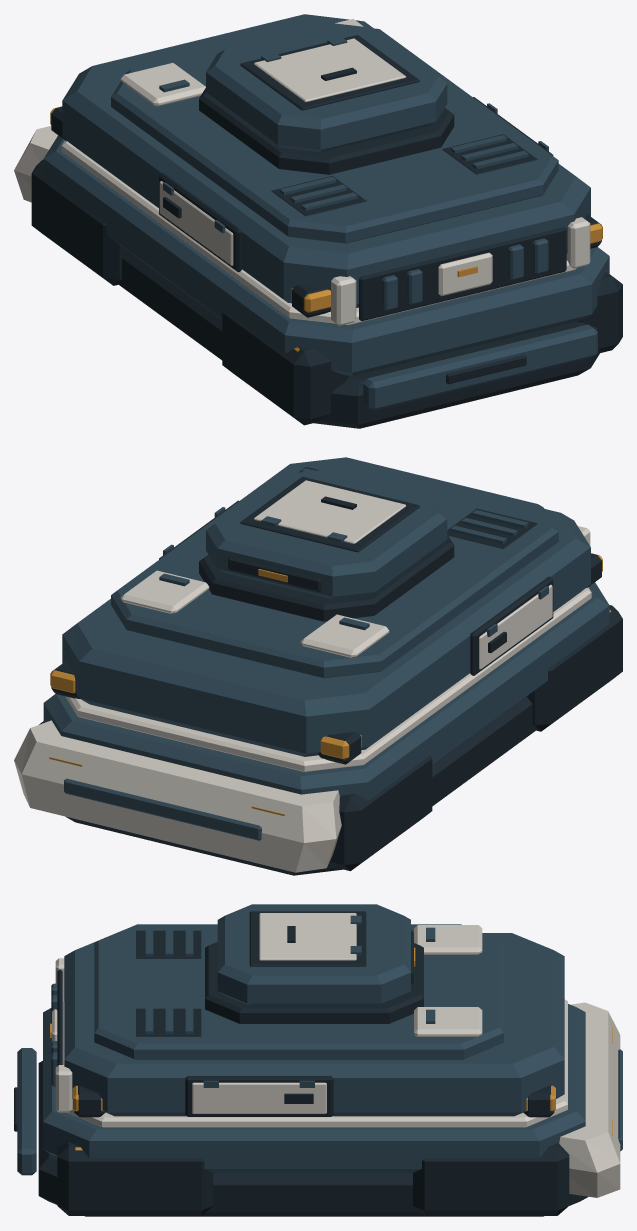
The model's file is cv-aegis-goliath.glb.
3 views of the same model, one above another, from view 1: azimuth 30°, elevation 25°; view 2: azimuth 150°, elevation 25°; view 3: azimuth 270°, elevation 25° (orthographic). The views are drawn at different scales.
Parts seen in each view (by area): view 1: cv-aegis-goliath; view 2: cv-aegis-goliath; view 3: cv-aegis-goliath.
Boxes of the visible parts, <box> form: cv-aegis-goliath: <box>14,14,622,428</box>; cv-aegis-goliath: <box>14,457,622,875</box>; cv-aegis-goliath: <box>14,904,622,1216</box>.
Bounding box in the file's own units: 2.8 × 1.9 × 4.8.
